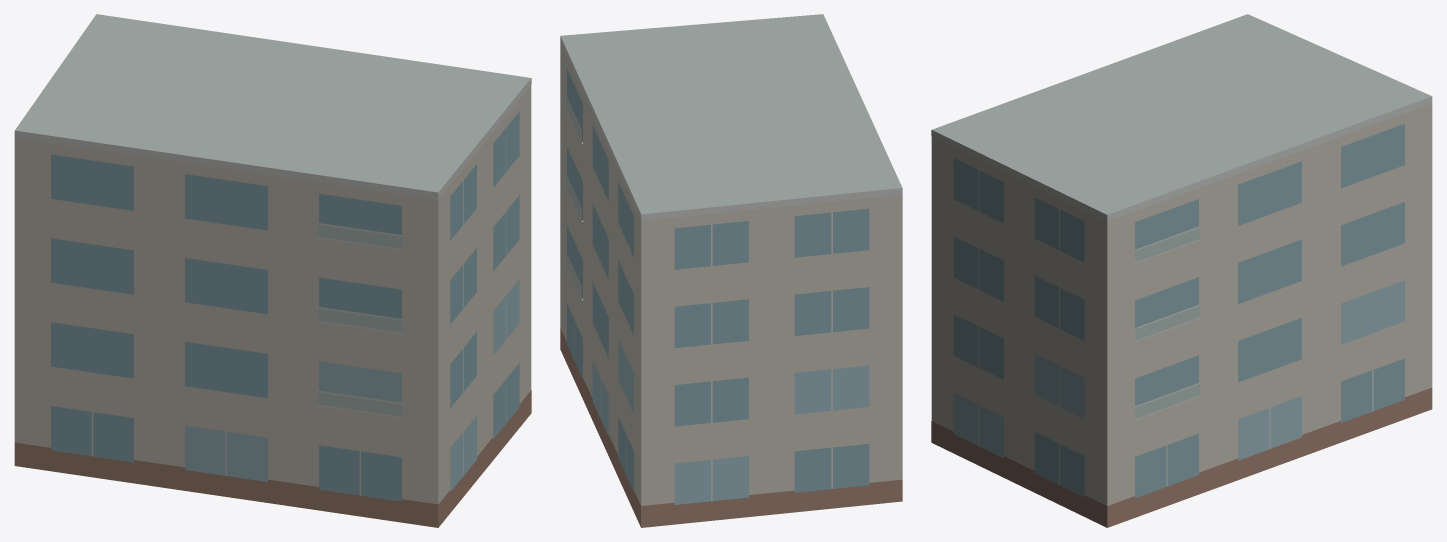
File: survey-upis-32779149.glb
The picture shows the model from 3 angles, left to right: view 1: azimuth 30°, elevation 25°; view 2: azimuth 150°, elevation 25°; view 3: azimuth 270°, elevation 25°; orthographic projection. The views are drawn at different scales.
Parts seen in each view (by area): view 1: survey-upis-32779149.tmp; view 2: survey-upis-32779149.tmp; view 3: survey-upis-32779149.tmp.
Boxes of the visible parts, left/top/right/bottom form: survey-upis-32779149.tmp: left=14, top=14, right=531, bottom=527; survey-upis-32779149.tmp: left=560, top=14, right=902, bottom=527; survey-upis-32779149.tmp: left=931, top=14, right=1432, bottom=527.
Size of the model in its own units: 15.57 by 11.3 by 16.4.
